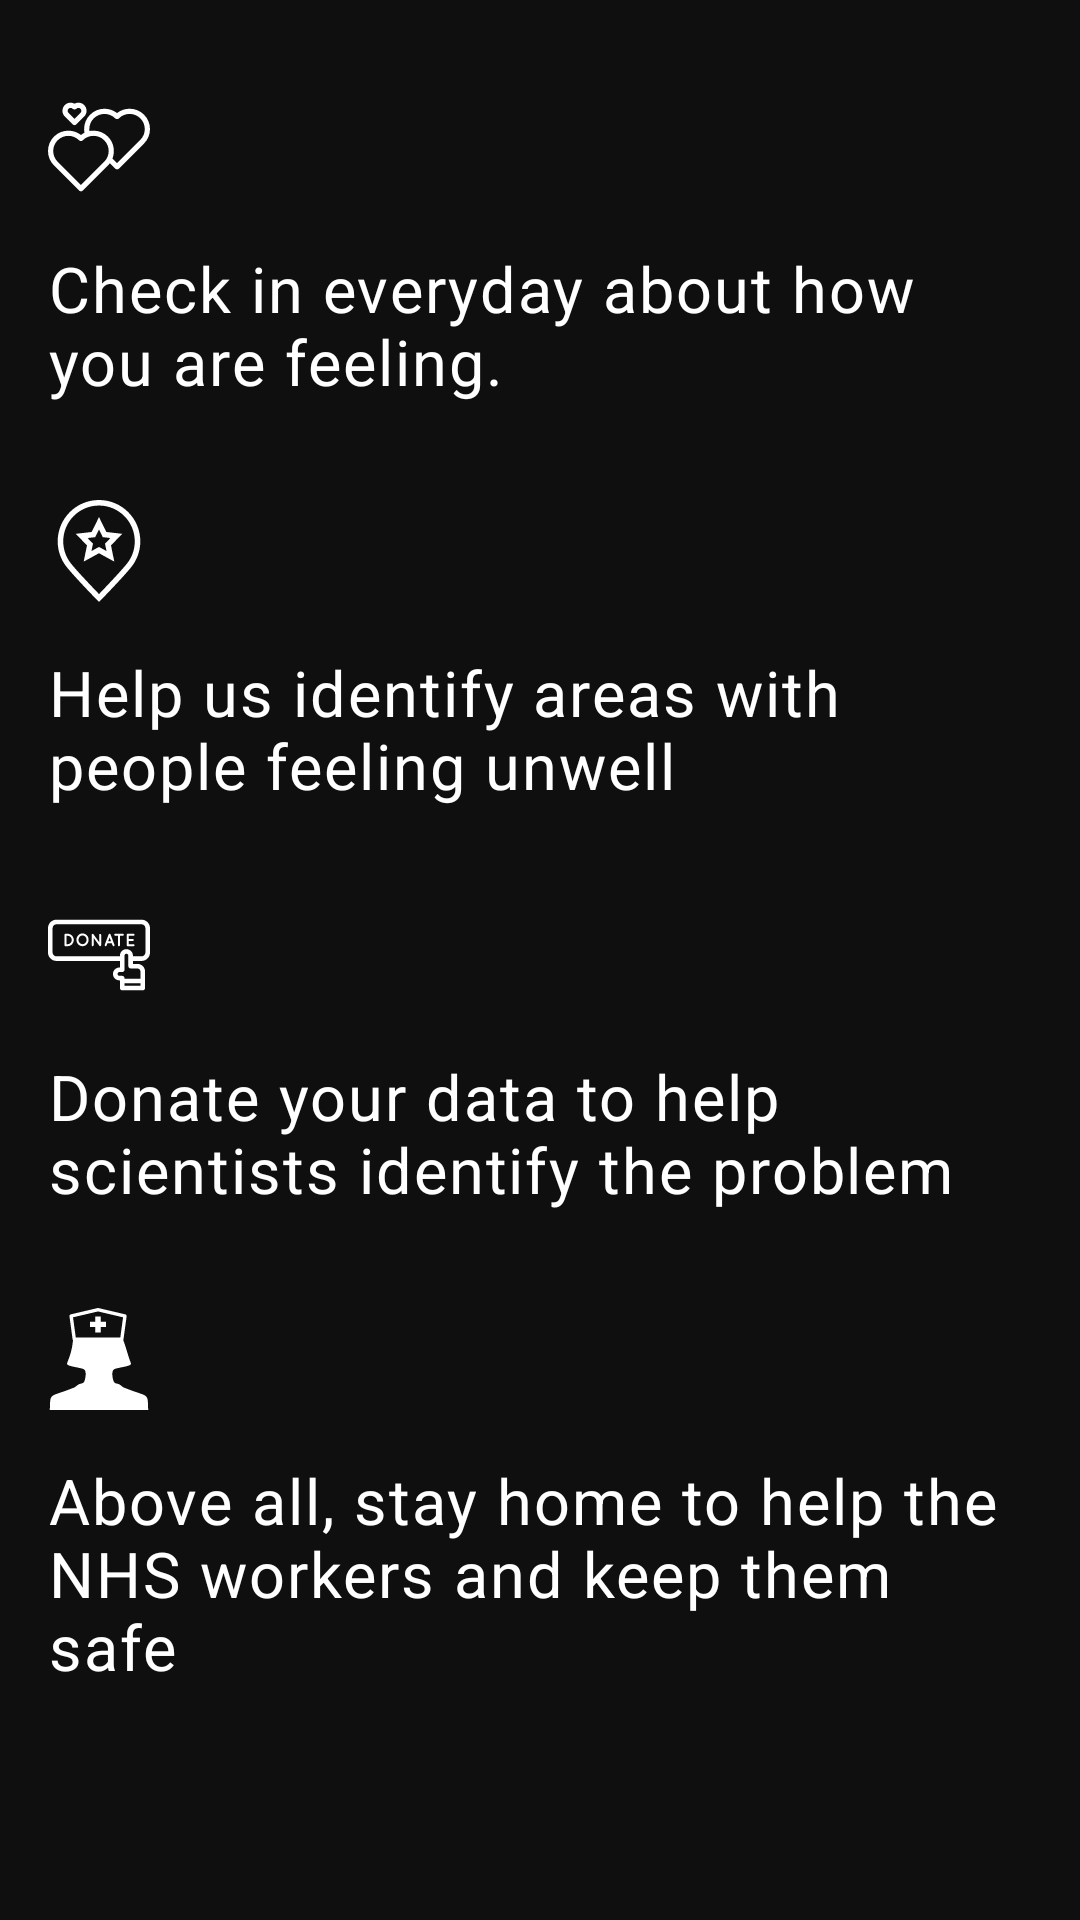

Icons on this 1080×1920 Android screen, each with its box as box=[x1, y1, x2, y2]:
hearts: box=[48, 102, 150, 192]
location: box=[57, 500, 141, 602]
nurse: box=[49, 1308, 149, 1410]
